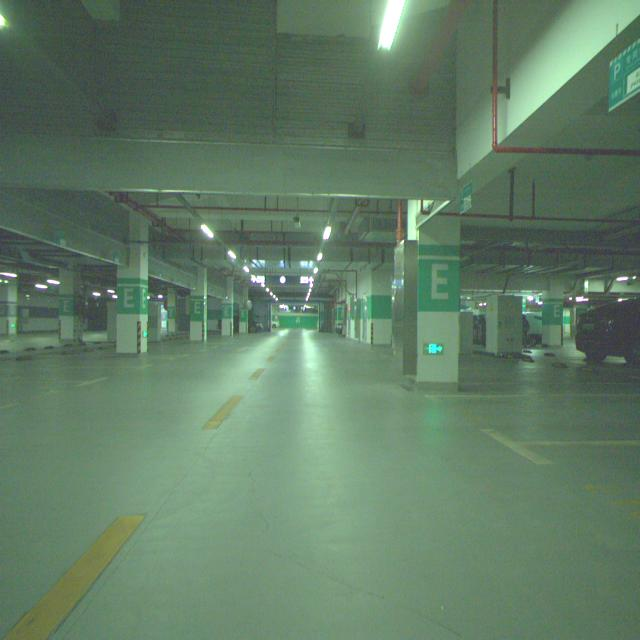pillar: (116, 211, 149, 353), (542, 280, 562, 347)
